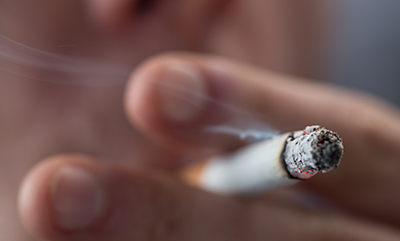cigarette: (152, 122, 350, 205)
